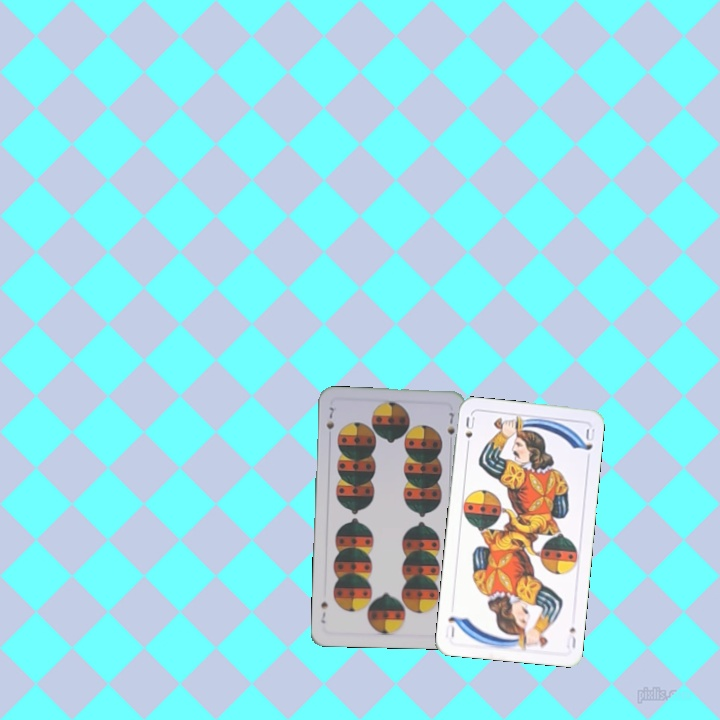S7: (322, 403, 337, 432)
SU: (461, 413, 477, 452), (562, 623, 579, 651)
